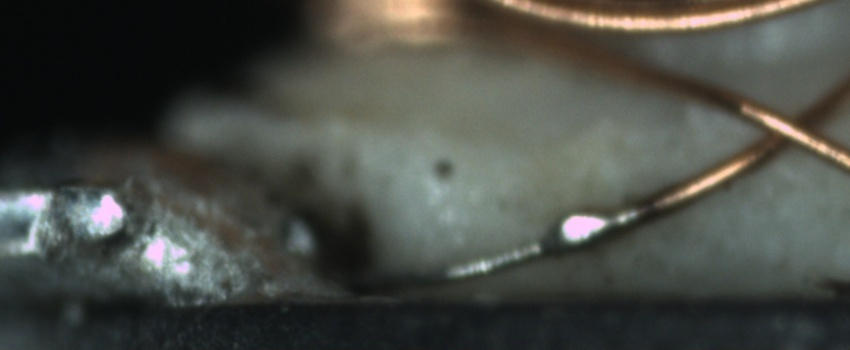CL: (723, 85, 841, 166)
TB: (547, 204, 615, 260)
TS: (345, 204, 649, 293)
TTCW: (350, 179, 698, 298)
